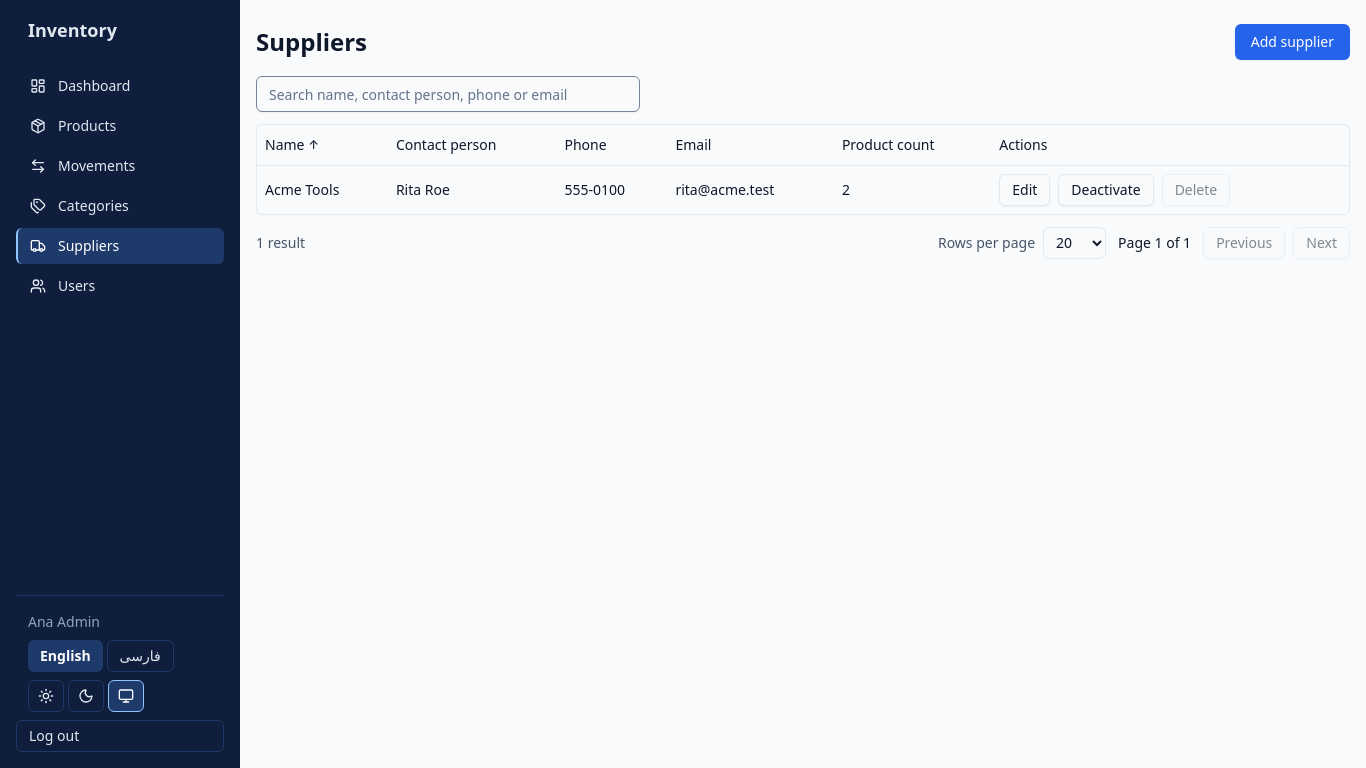
Test: Suppliers page, admin › adds a supplier from the form and shows it in the table
Click the button "Add supplier" at [1292, 42], box [1235, 24, 1350, 60]
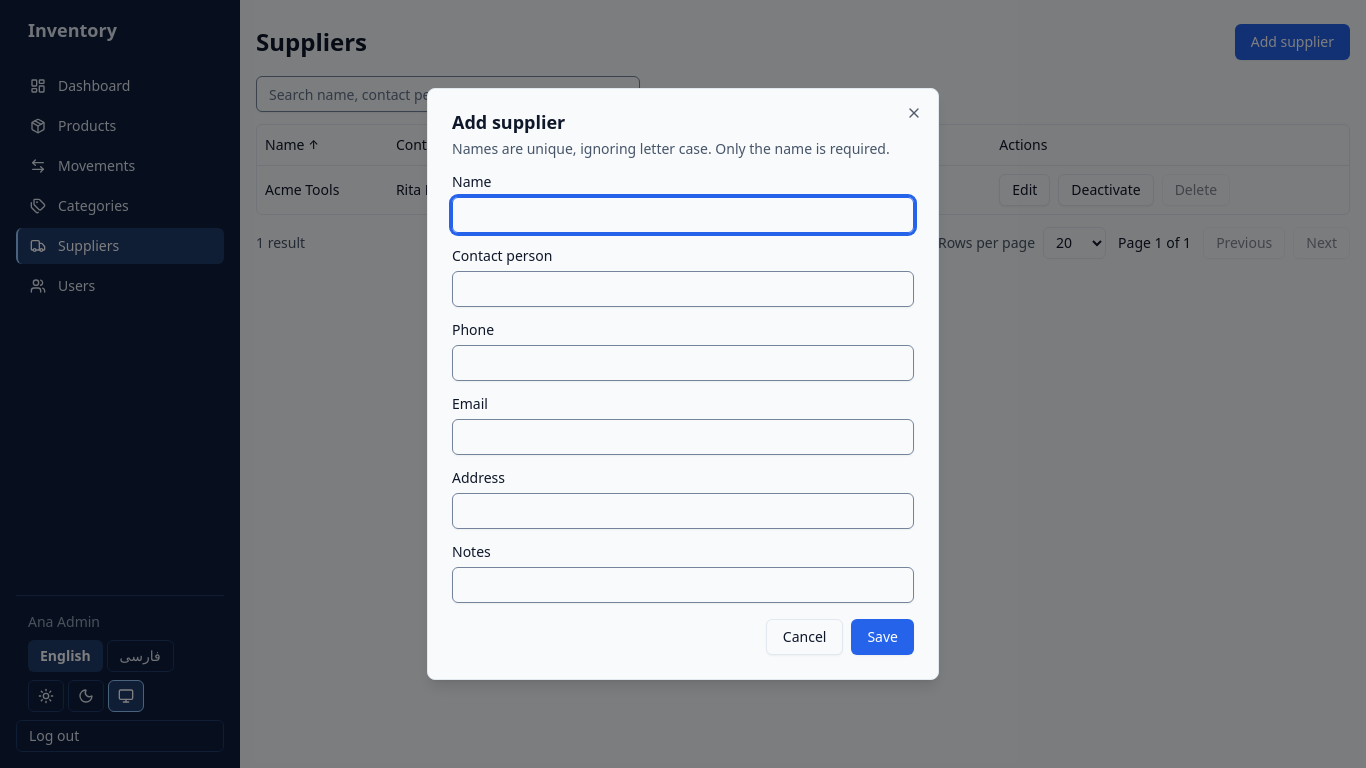
Type "Birch Supply" into the field labelled "Name" at [683, 215], box [452, 197, 914, 233]
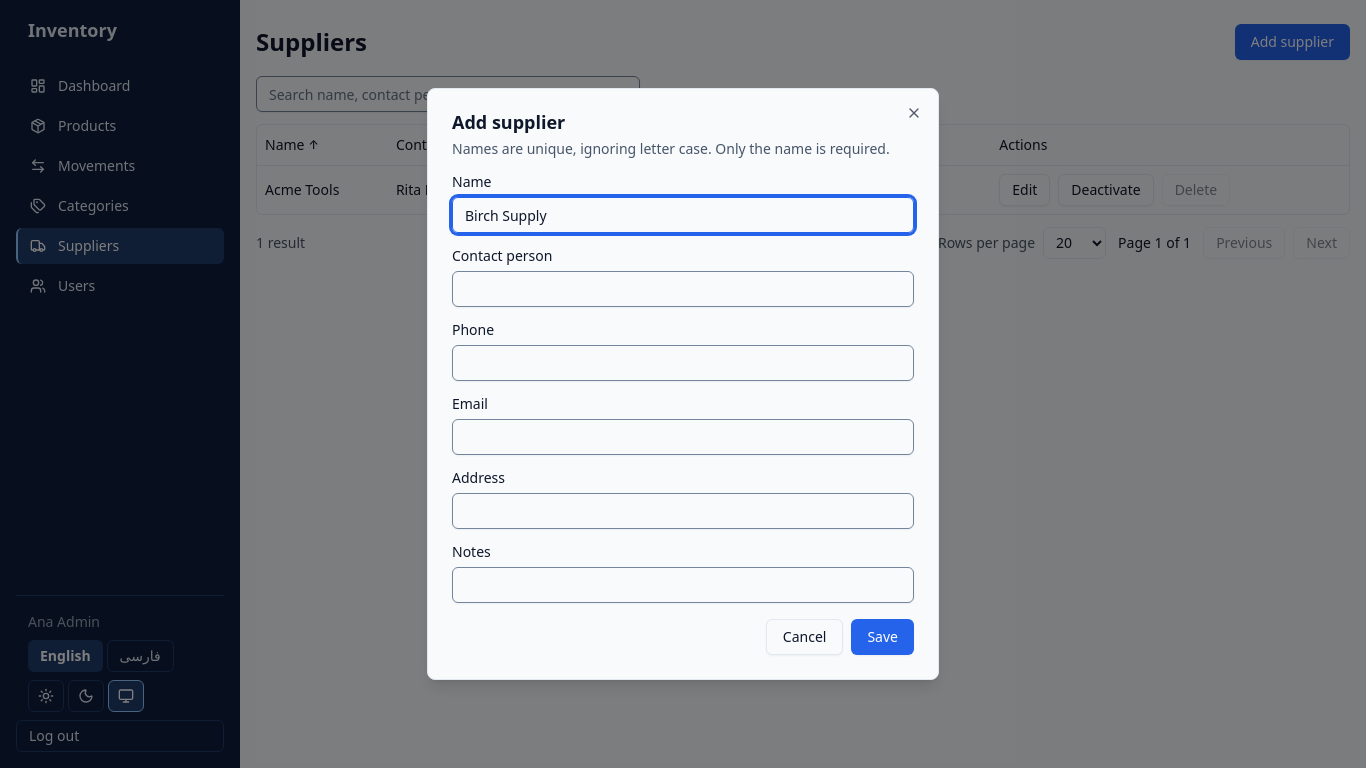
Type "Bo Birch" into the field labelled "Contact person" at [683, 289], box [452, 271, 914, 307]
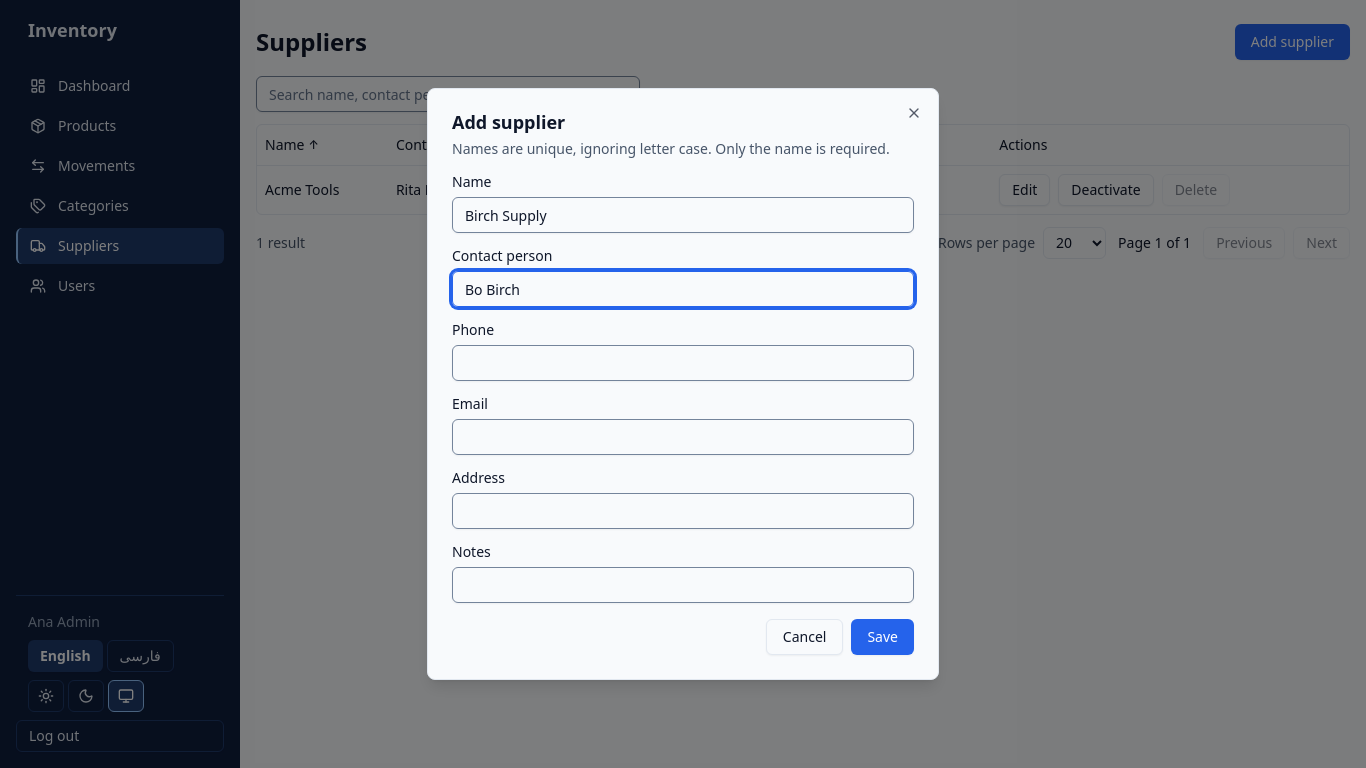
Type "bo@birch.test" into the field labelled "Email" at [683, 437], box [452, 419, 914, 455]
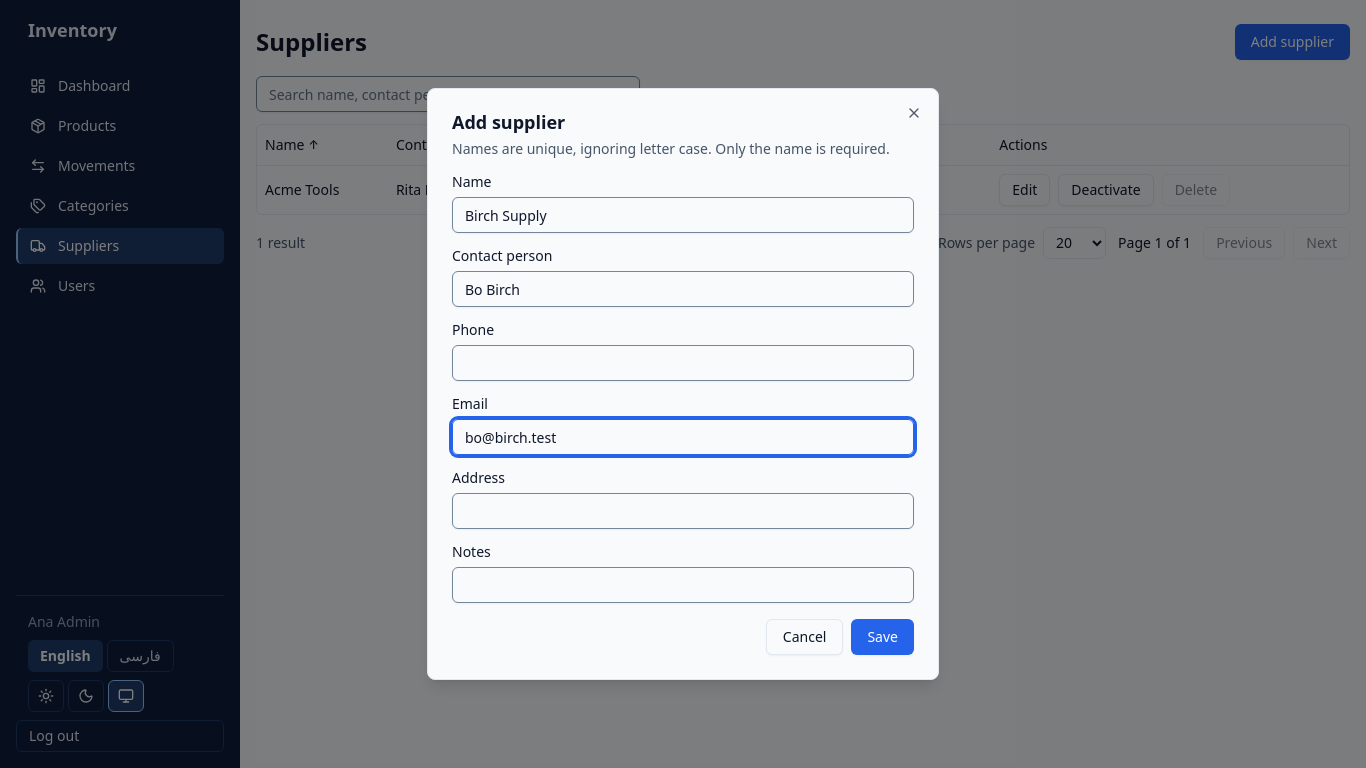
Click the button "Save" at [883, 637], box [851, 619, 914, 655]
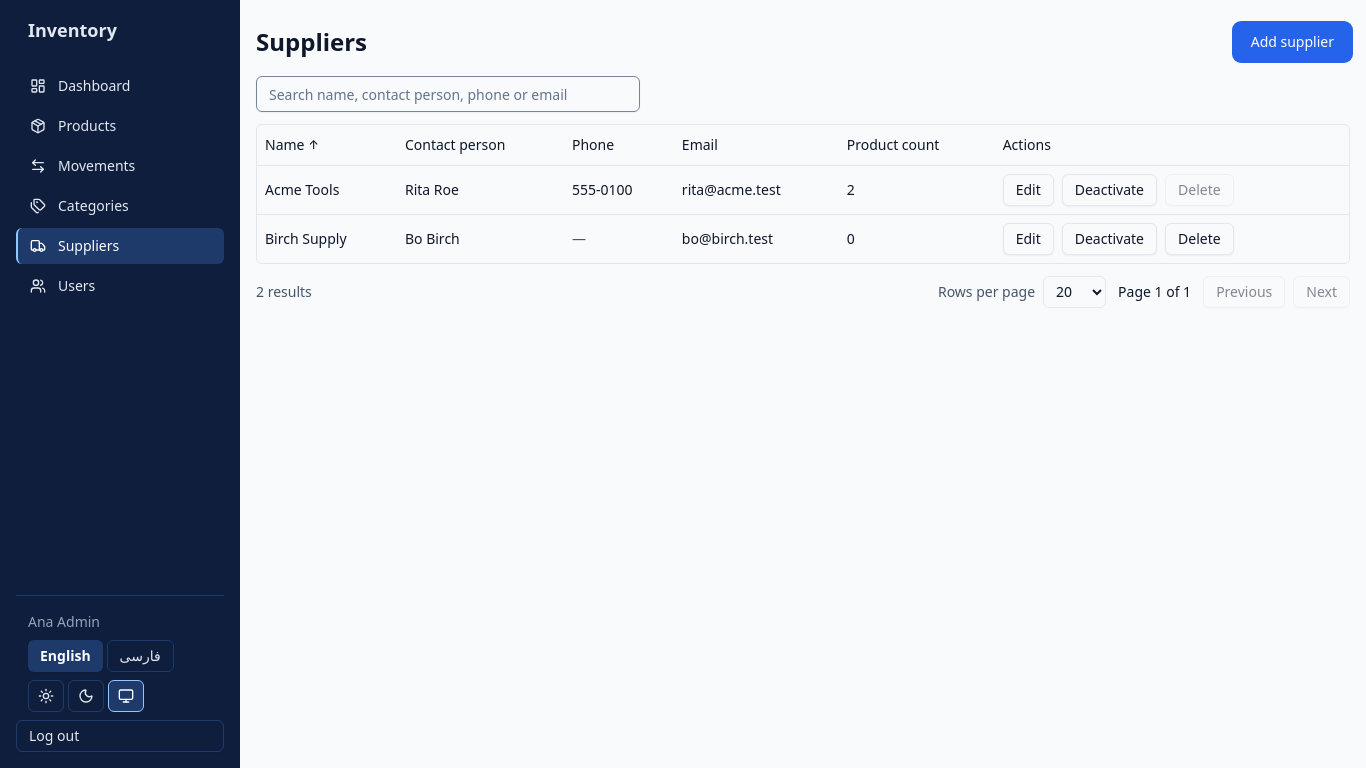
Result: the link "Birch Supply" is shown at [265, 228, 346, 248]
Result: the dialog is gone
